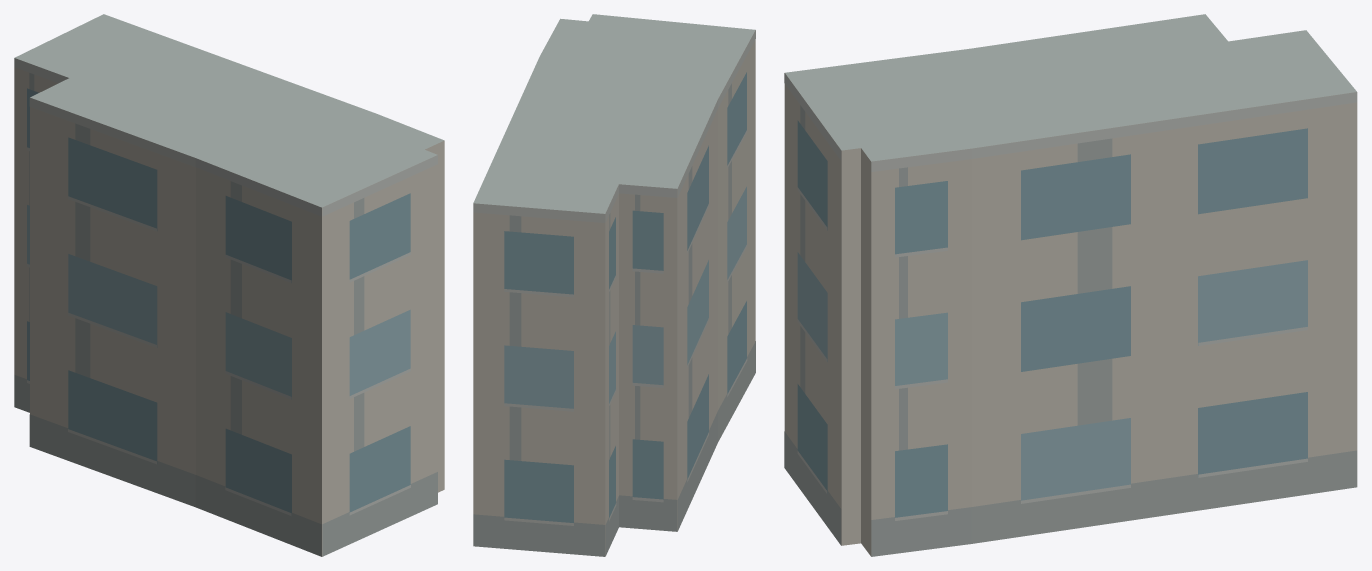
File: residential-9829d9fa-db04-4dbc-8437-84bd3ad2fe1a.glb
The picture shows the model from 3 angles, left to right: view 1: azimuth 30°, elevation 25°; view 2: azimuth 150°, elevation 25°; view 3: azimuth 270°, elevation 25°; orthographic projection. The views are drawn at different scales.
Parts seen in each view (by area): view 1: residential-9829d9fa-db04-4dbc-8437-84bd3ad2fe1a.tmp; view 2: residential-9829d9fa-db04-4dbc-8437-84bd3ad2fe1a.tmp; view 3: residential-9829d9fa-db04-4dbc-8437-84bd3ad2fe1a.tmp.
Boxes of the visible parts, bbox=[...] form: residential-9829d9fa-db04-4dbc-8437-84bd3ad2fe1a.tmp: bbox=[14, 14, 444, 556]; residential-9829d9fa-db04-4dbc-8437-84bd3ad2fe1a.tmp: bbox=[473, 14, 755, 556]; residential-9829d9fa-db04-4dbc-8437-84bd3ad2fe1a.tmp: bbox=[784, 14, 1357, 556].
Size of the model in its own units: 7.33 by 9.15 by 12.02.
